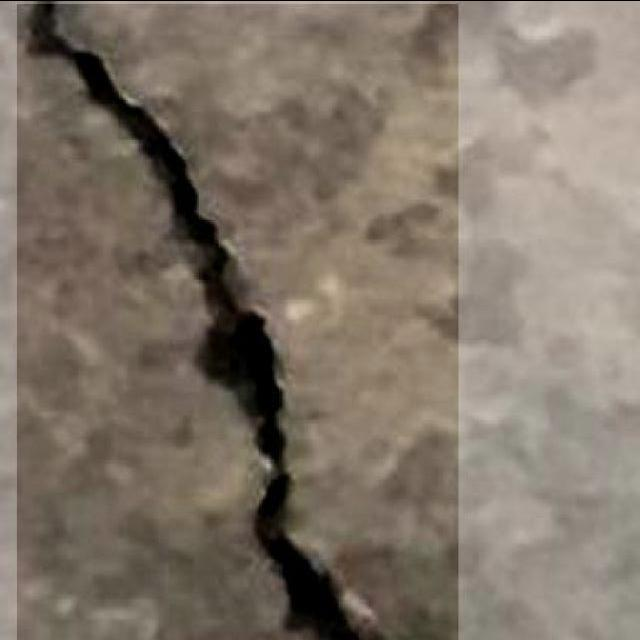SurfaceCrack: (16, 0, 444, 640)
